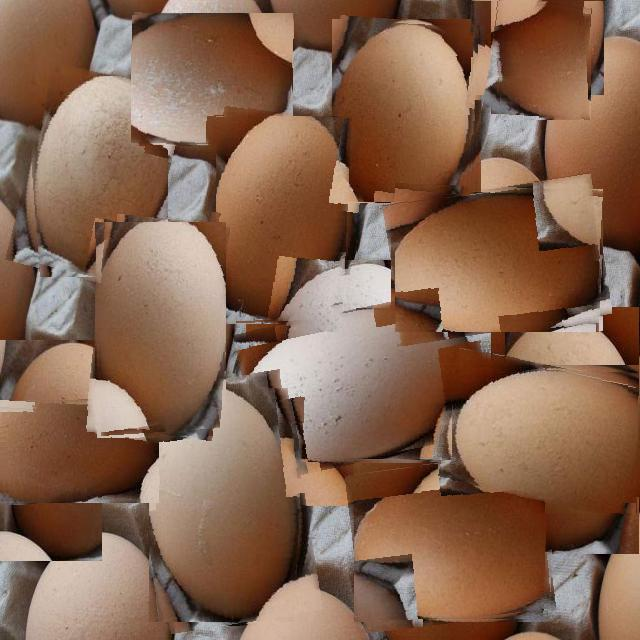biodegradable: (249, 305, 486, 462), (149, 385, 301, 622), (354, 460, 552, 620), (395, 187, 602, 332), (216, 116, 350, 323), (31, 76, 168, 277), (452, 370, 640, 513), (99, 222, 226, 433), (332, 23, 475, 202), (131, 13, 293, 144), (1, 402, 159, 503), (496, 4, 591, 120)
